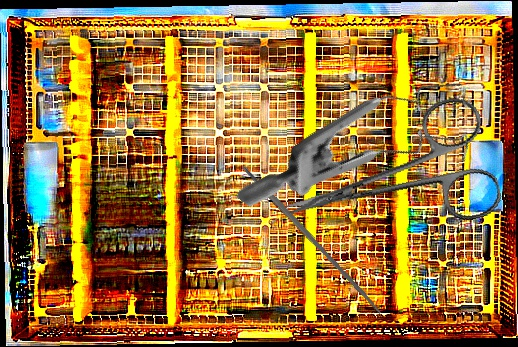Iris Scissors: (270, 91, 506, 266)
Scalpel Handle: (240, 162, 384, 316)
Speculum: (235, 16, 500, 294)
